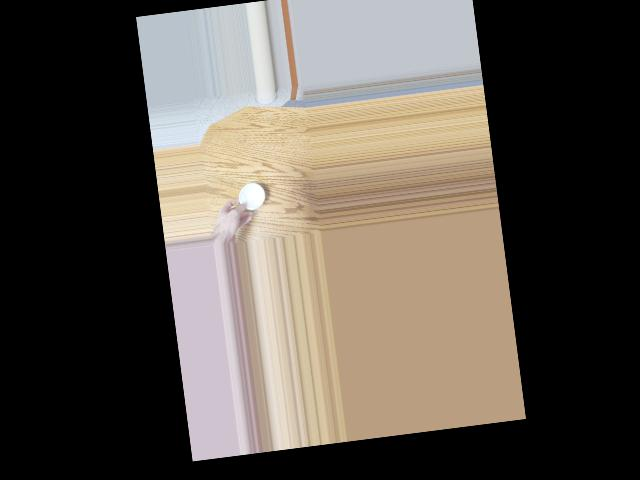cotage: (235, 181, 268, 211)
